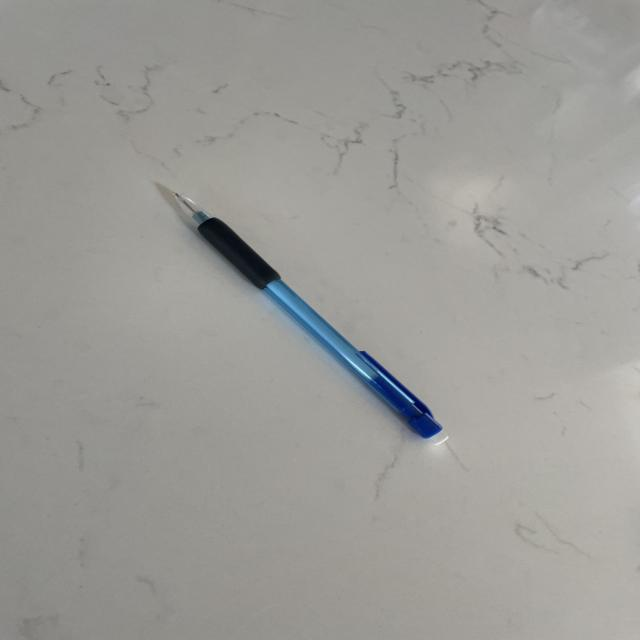mechanical-pencils: (163, 191, 454, 460)
